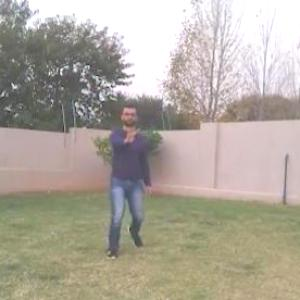takeoff-hand: (123, 124, 142, 149)
